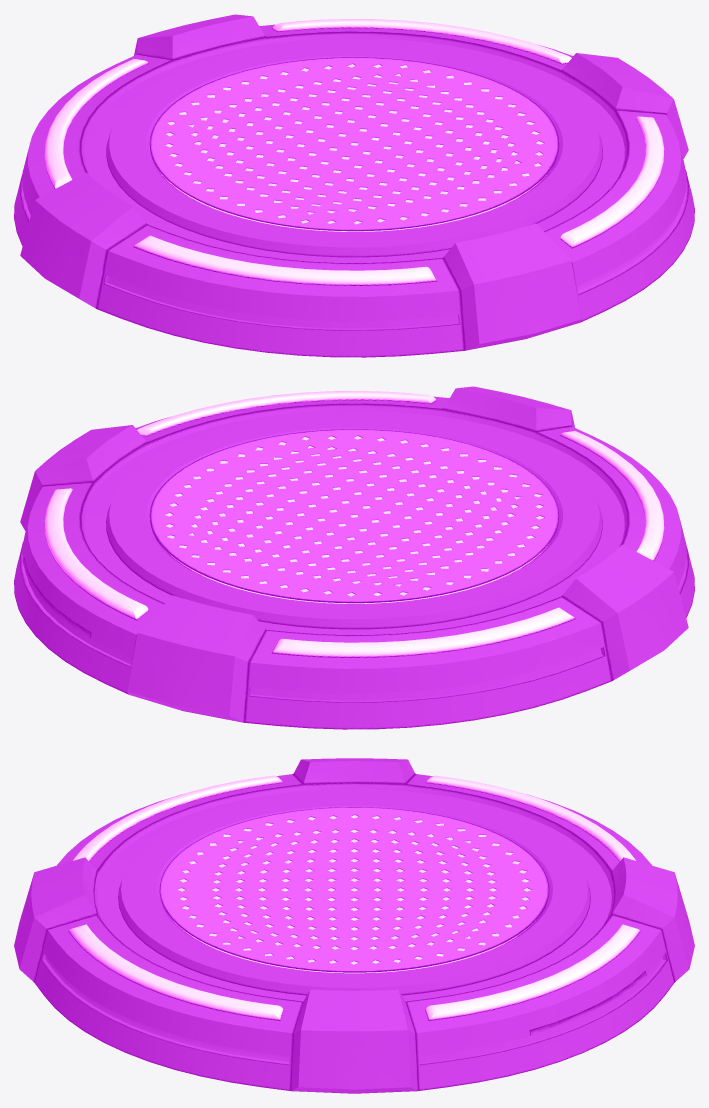
File: platform.glb
3 views of the same model, one above another, from view 1: azimuth 30°, elevation 25°; view 2: azimuth 150°, elevation 25°; view 3: azimuth 270°, elevation 25° (orthographic). The views are drawn at different scales.
Parts seen in each view (by area): view 1: tech_pedestal; view 2: tech_pedestal; view 3: tech_pedestal.
Part boxes in pixels (x1,y1,x2,y2): tech_pedestal: (14, 14, 694, 357); tech_pedestal: (14, 386, 694, 729); tech_pedestal: (14, 758, 694, 1093).
Size of the model in its own units: 4.81 by 0.6229 by 4.81.
1 material, 1 textured.
